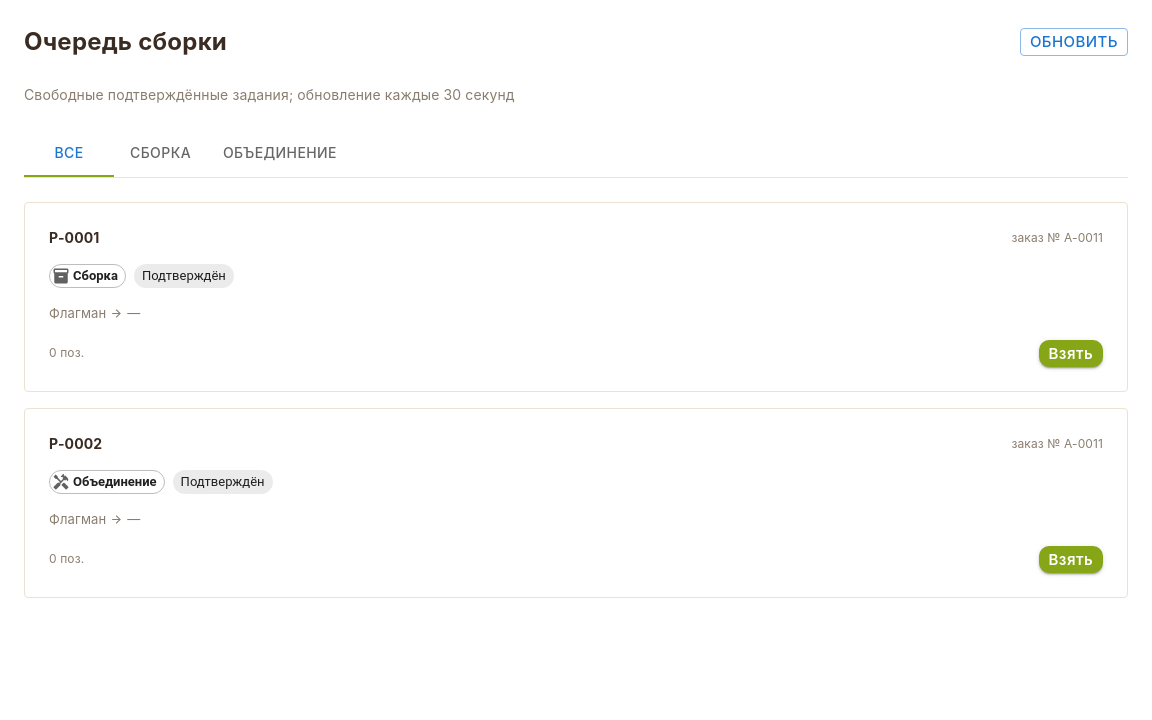
it: PickerQueuePage › фильтрует по типу работы
Step 1. Click the tab "Объединение" → (280, 153), box top-left (207, 129), bottom-right (353, 177)
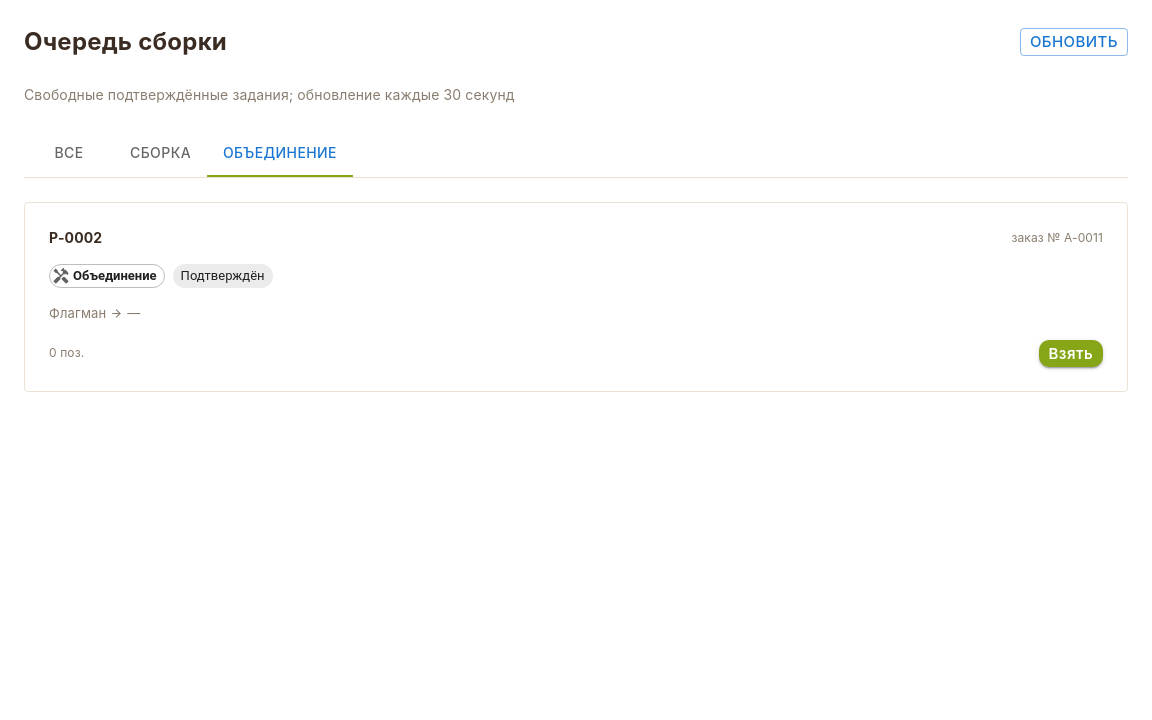
Expected: the text "P-0002" is shown, top-left (49, 227), bottom-right (102, 248)
Result: the text "P-0001" is gone
